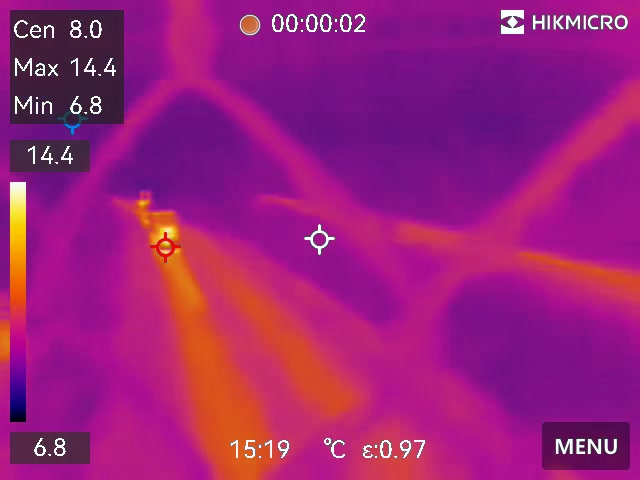vehicle: (144, 211, 183, 254)
